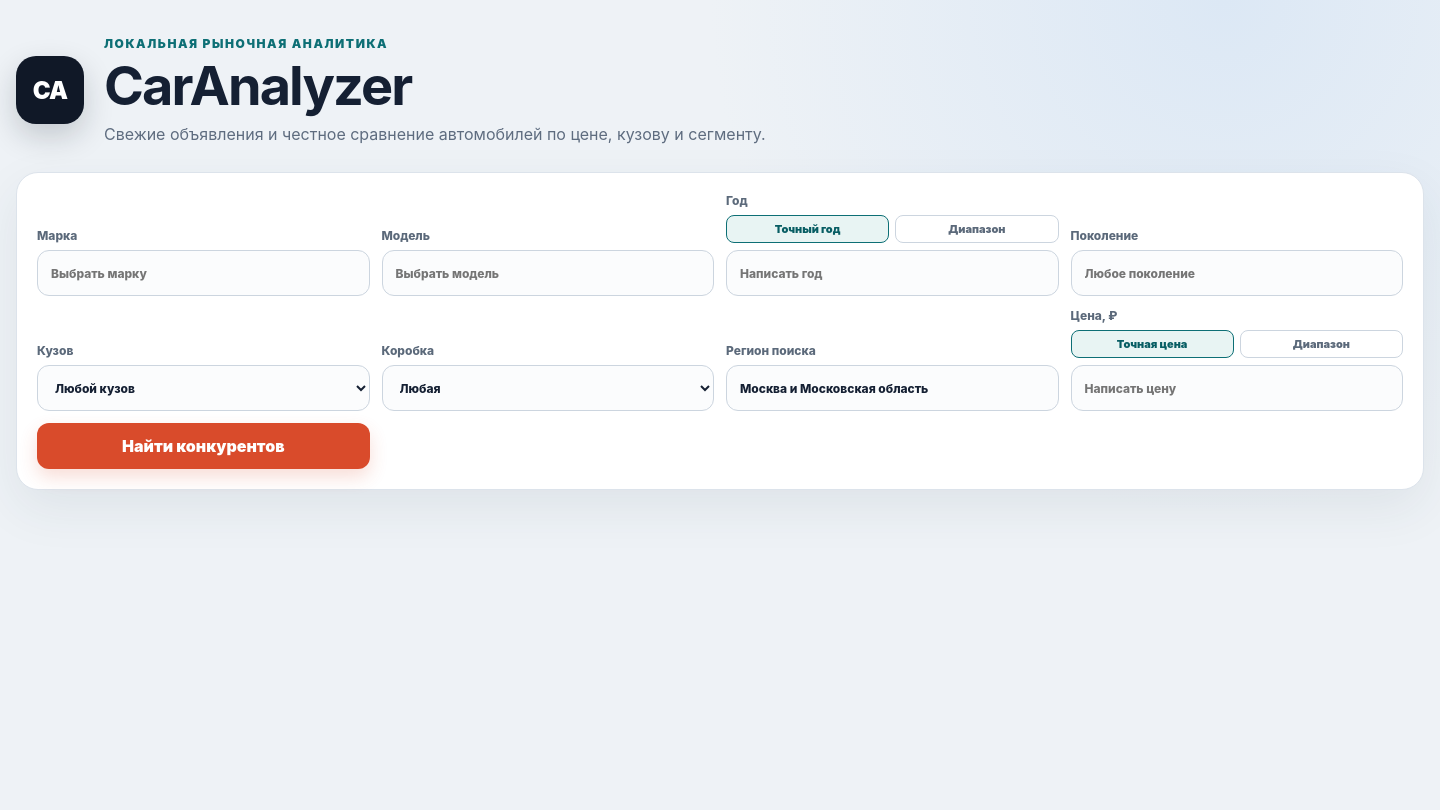
Test: CarAnalyzer form › renders independent source states and safe marketplace links
Type "Example Brand" into the dropdown labelled "Марка" at [203, 273], box x1=37 y1=250 x2=370 y2=296
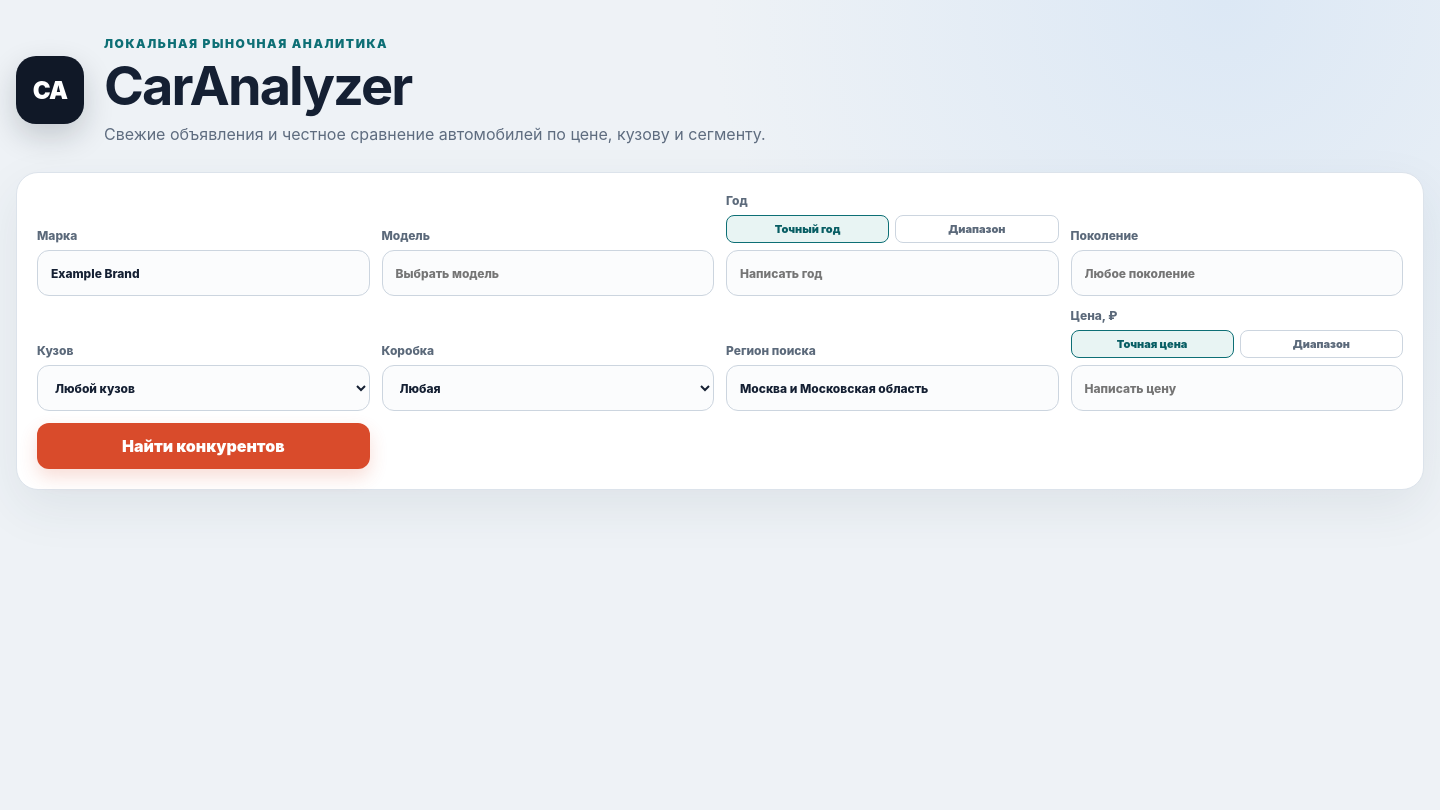
Type "Example Model" into the dropdown labelled "Модель" at [548, 273], box x1=382 y1=250 x2=714 y2=296
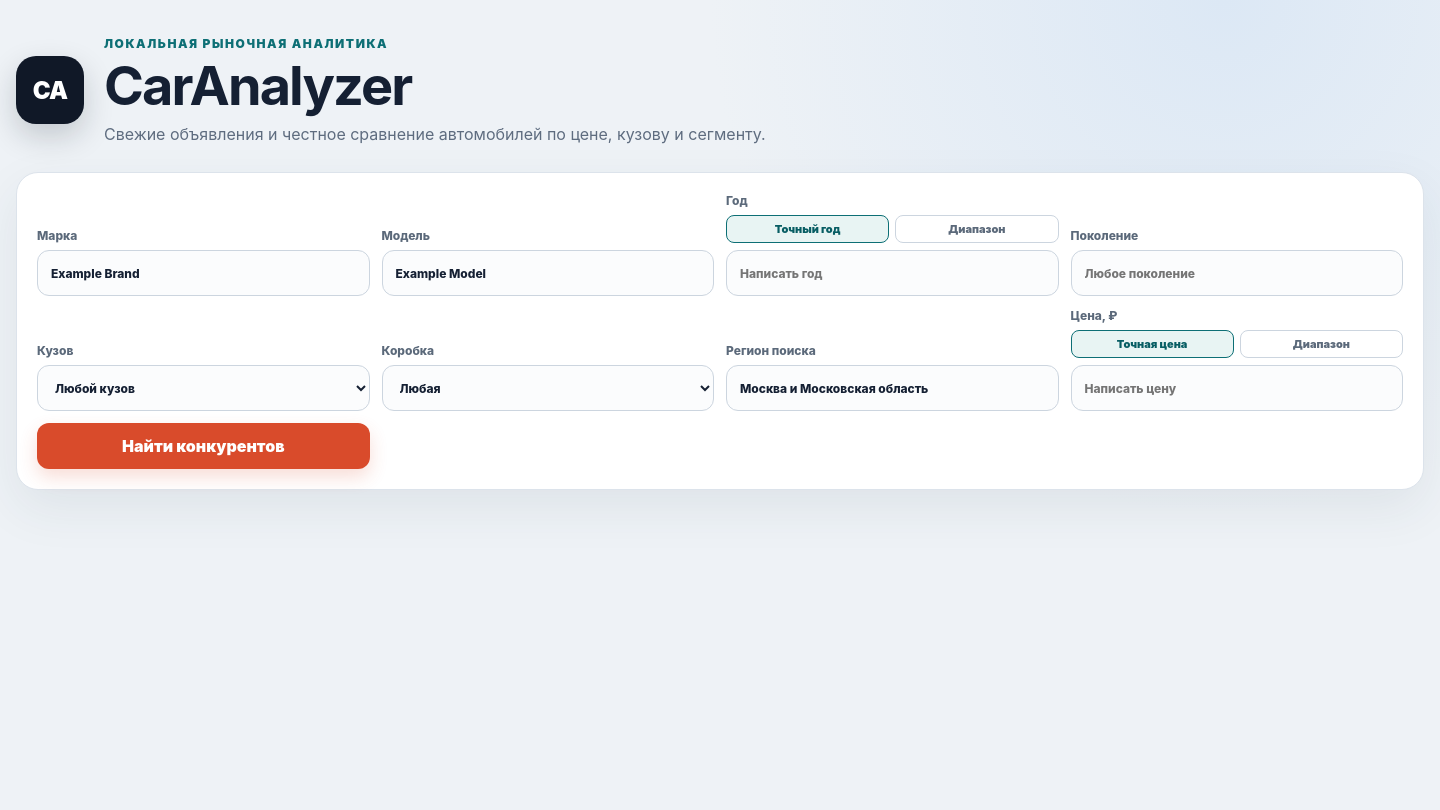
Type "2016" into the number field labelled "год" at [892, 273], box x1=726 y1=250 x2=1058 y2=296
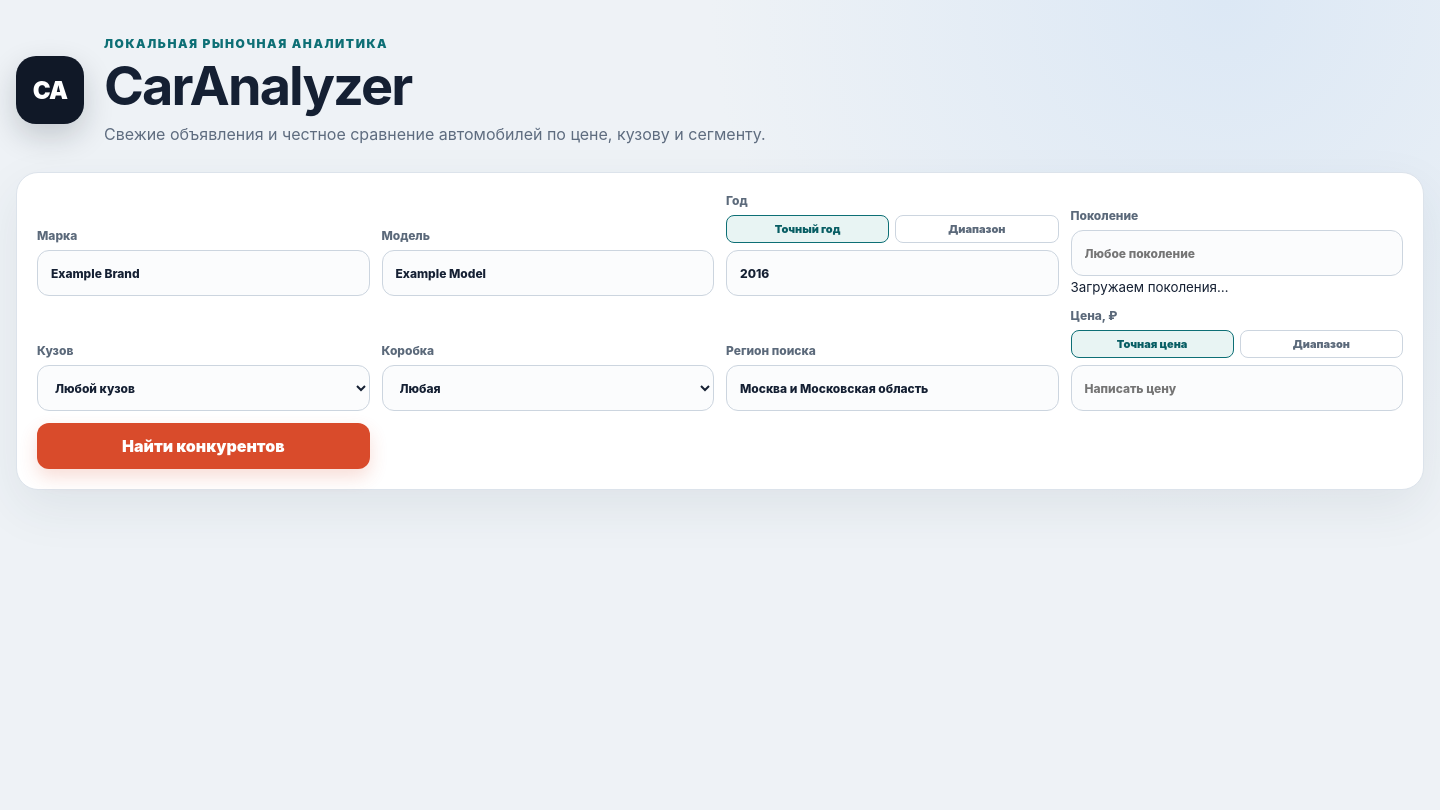
Select "Любой кузов" in the dropdown labelled "Кузов" at [203, 388], box x1=37 y1=365 x2=370 y2=411
Type "700000" into the field named "Цена" at [1237, 388], box x1=1070 y1=365 x2=1403 y2=411
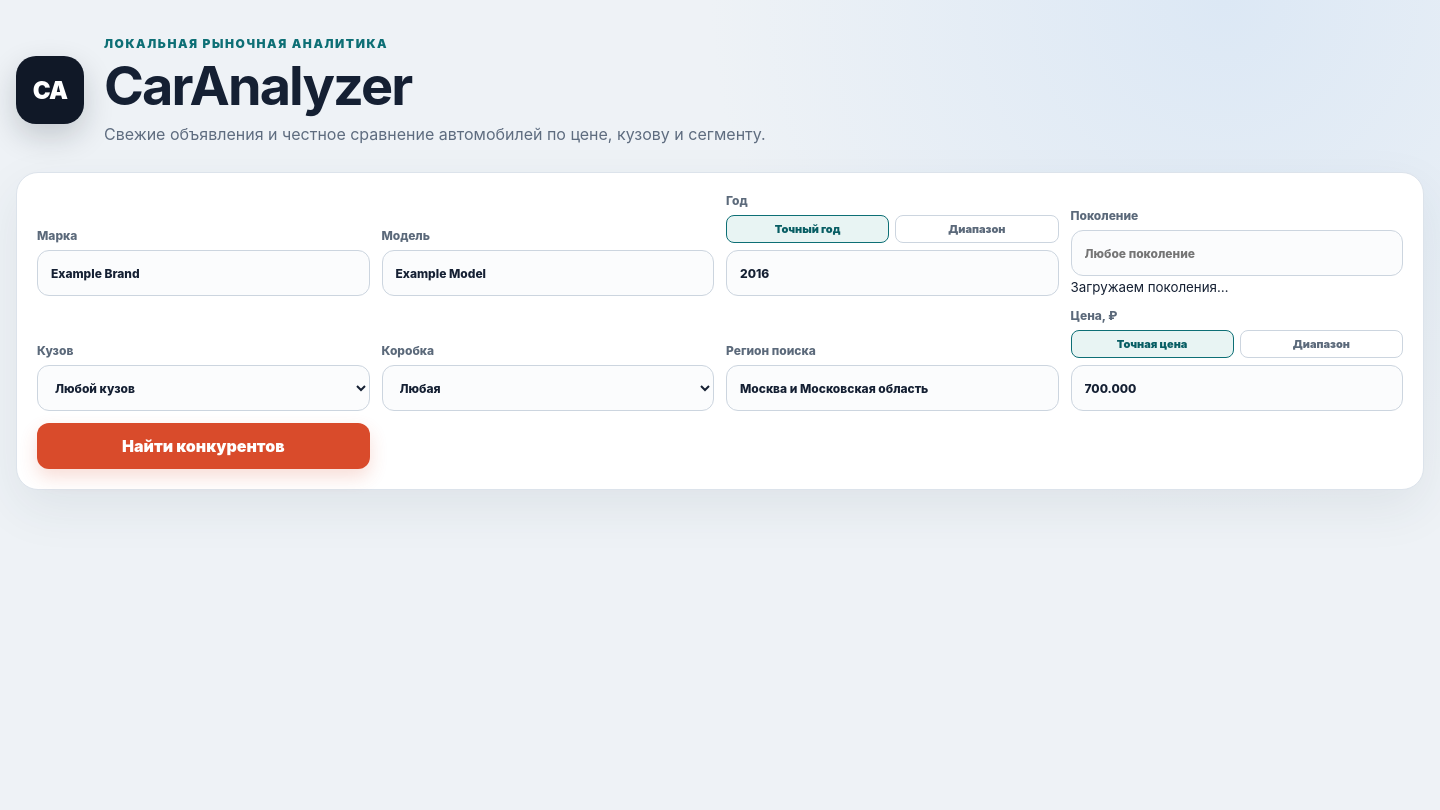
Click the button "Найти конкурентов" at [203, 446], box x1=37 y1=423 x2=370 y2=469
(page scrolled)
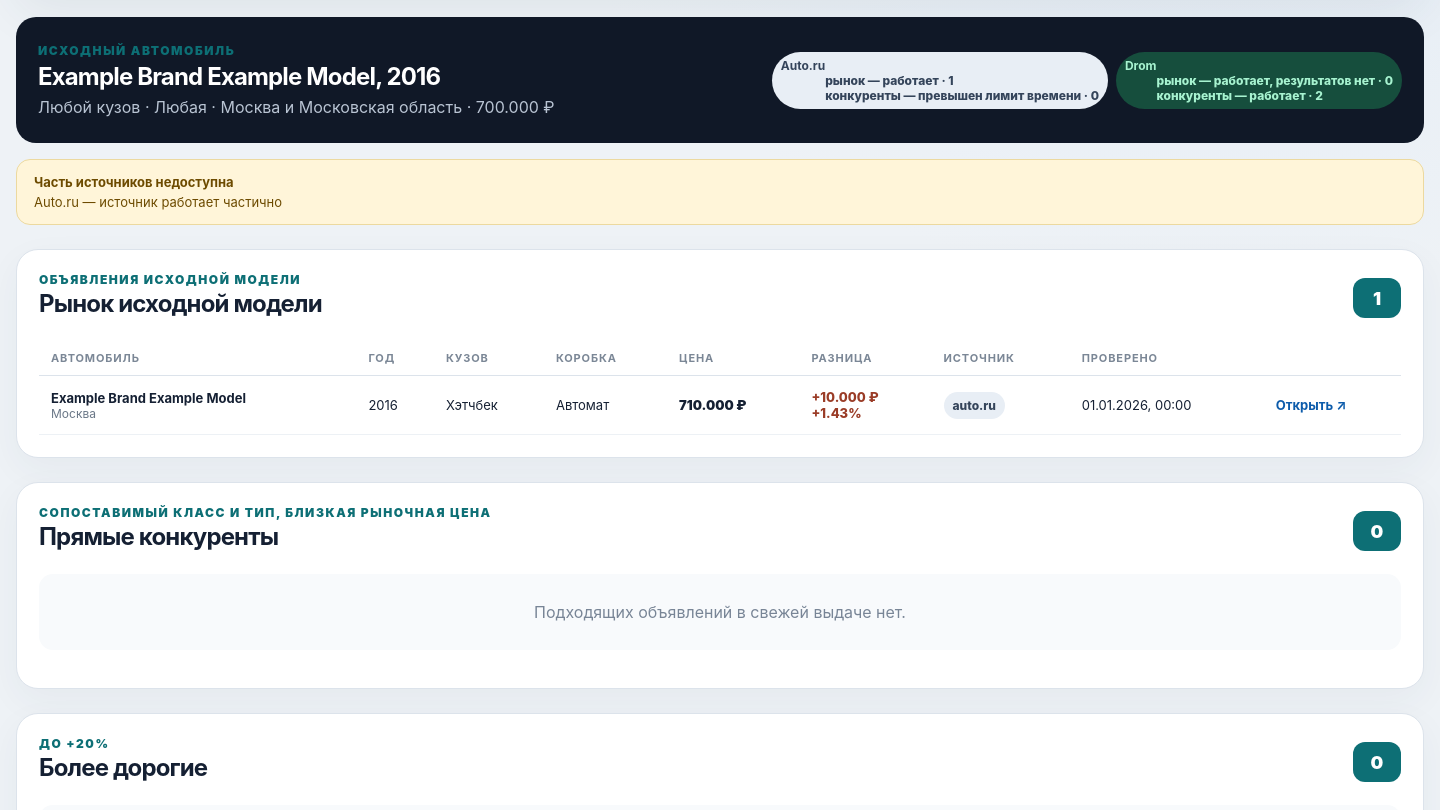
Expected: the text "рынок — работает, результатов нет · 0" is shown, x1=1116 y1=52 x2=1402 y2=108
Expected: the text "конкуренты — превышен лимит времени · 0" is shown, x1=772 y1=52 x2=1108 y2=108
